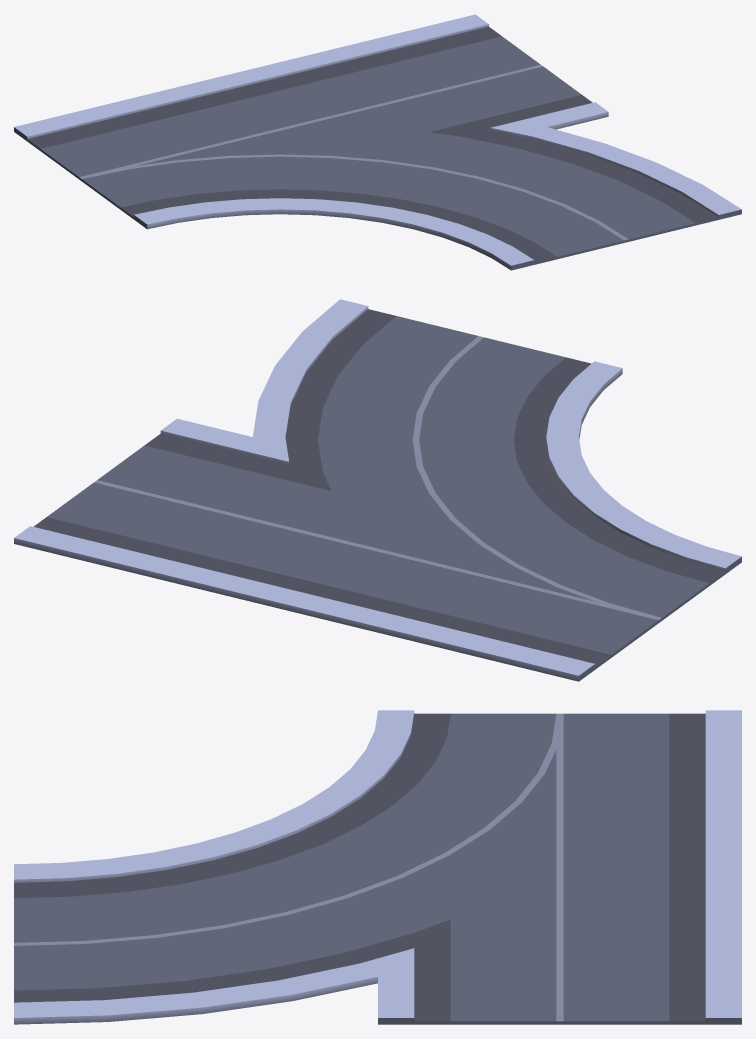
File: road-curve-intersection.glb
3 renders of one model, top to bottom at view 1: azimuth 30°, elevation 25°; view 2: azimuth 150°, elevation 25°; view 3: azimuth 270°, elevation 25°, orthographic. The views are drawn at different scales.
Visible parts, largest first — view 1: road-curve-intersection; view 2: road-curve-intersection; view 3: road-curve-intersection.
Boxes of the visible parts, x1,y1,x2,y2 form: road-curve-intersection: [14, 14, 741, 270]; road-curve-intersection: [14, 299, 741, 681]; road-curve-intersection: [14, 710, 741, 1024].
Size of the model in its own units: 2 by 0.02 by 2.
Materials: 1 (1 with a texture image).
